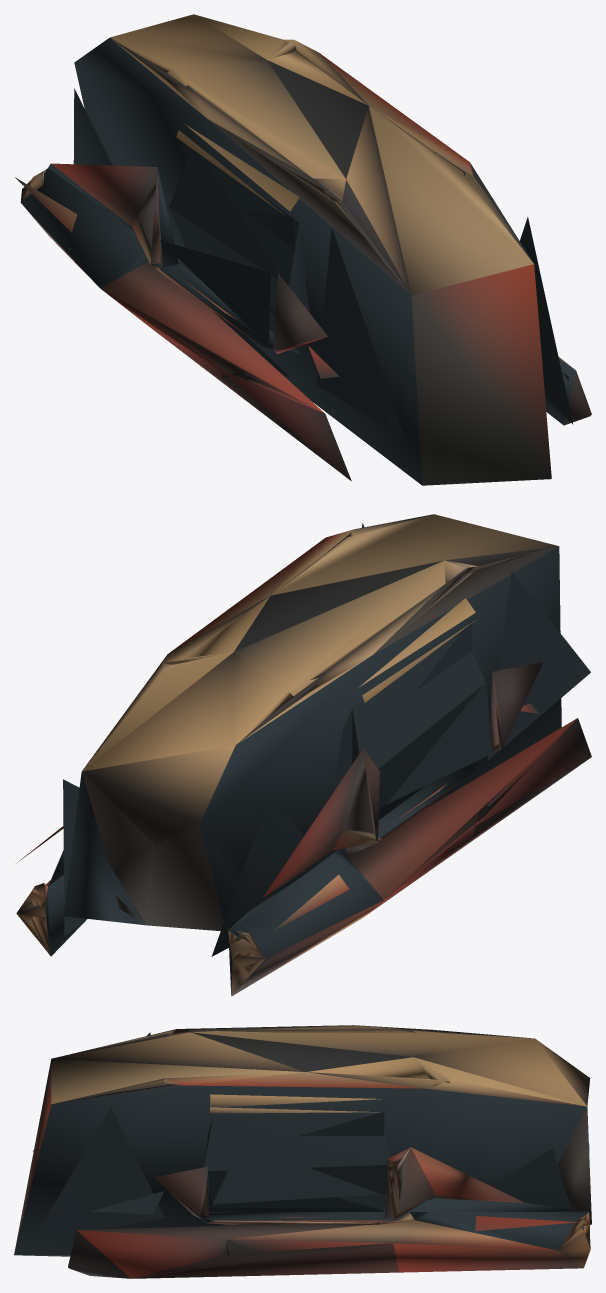
The model's file is cargo-lod.glb.
3 renders of one model, top to bottom at view 1: azimuth 30°, elevation 25°; view 2: azimuth 150°, elevation 25°; view 3: azimuth 270°, elevation 25°, orthographic. The views are drawn at different scales.
Parts seen in each view (by area): view 1: SM_cargo_Instanced_LOD; view 2: SM_cargo_Instanced_LOD; view 3: SM_cargo_Instanced_LOD.
Boxes of the visible parts, <box> form: SM_cargo_Instanced_LOD: <box>15,14,591,485</box>; SM_cargo_Instanced_LOD: <box>16,514,591,996</box>; SM_cargo_Instanced_LOD: <box>14,1025,591,1278</box>.
Bounding box in the file's own units: 1.65 × 1.41 × 3.85.
